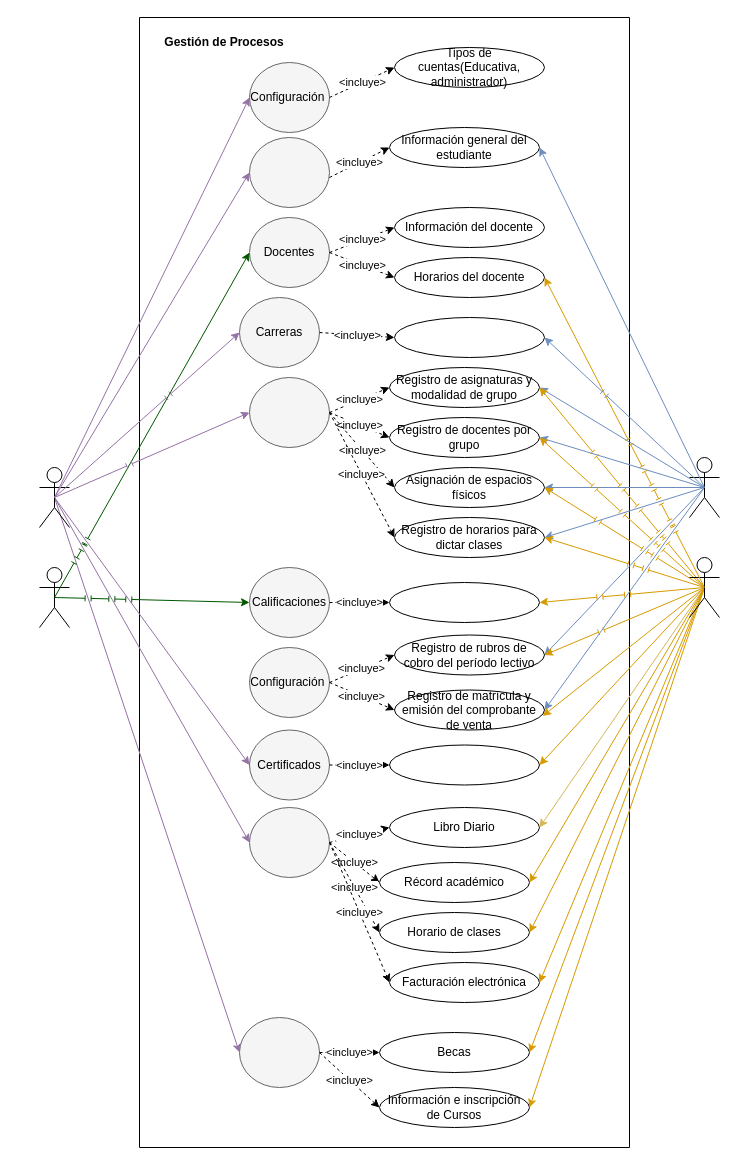
The diagram is 750 pixels wide and 1165 high, and some of its shapes have lost their labels. The centre of each missing label's shape, as x and y in pixels:
"Administrador" belongs at point 54,497.
"Bienestar Estudiantil" belongs at point 279,1052.
"Estudiante" belongs at point 704,587.
"Información de las carreras y Asignaturas" belongs at point 469,337.
"Inscripciones" belongs at point 289,172.
"Oferta de grupos" belongs at point 289,412.
"Profesor" belongs at point 54,597.
"Registro de calificaciones por asignatura" belongs at point 464,602.
"Reportes" belongs at point 289,842.
"Servicio web que devuelva información de las asignaturas y calificaciones" belongs at point 464,764.
"Visitante" belongs at point 704,487.
